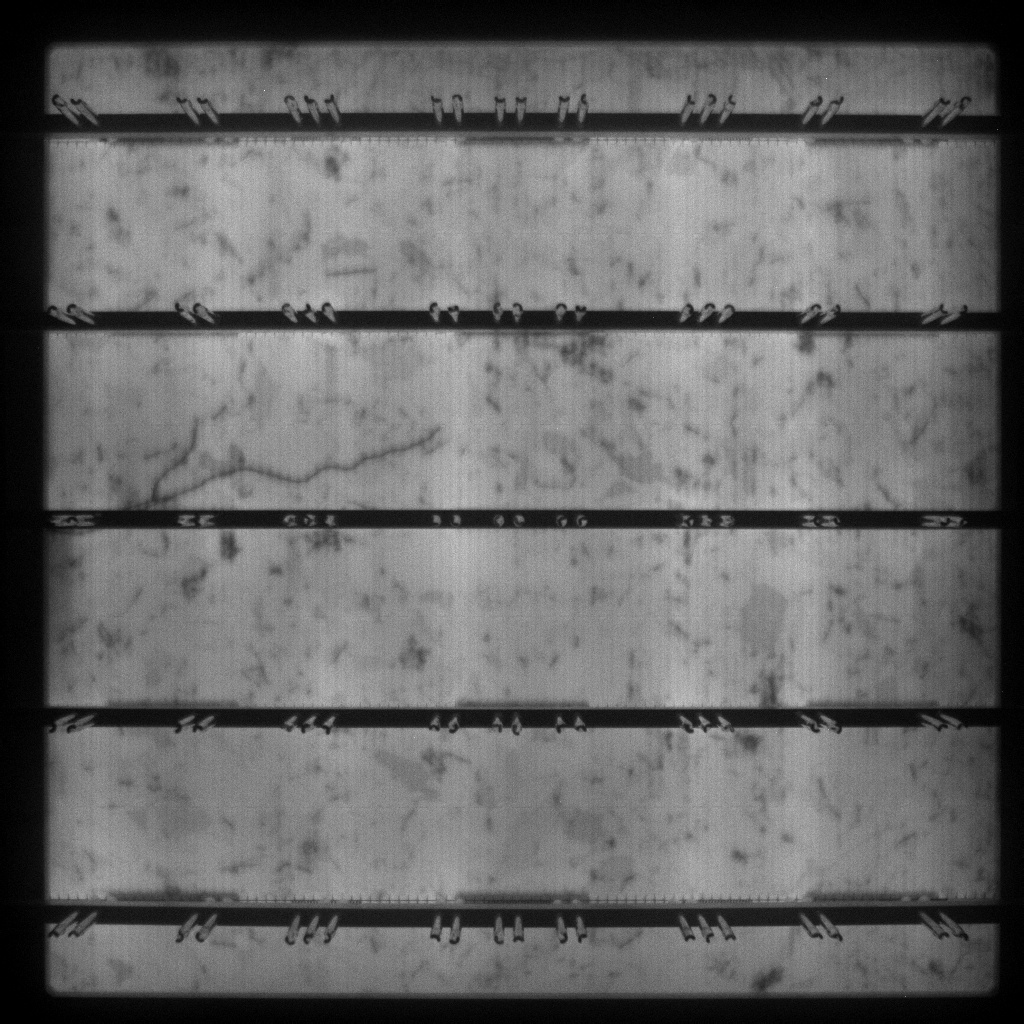crack: (112, 418, 444, 508)
